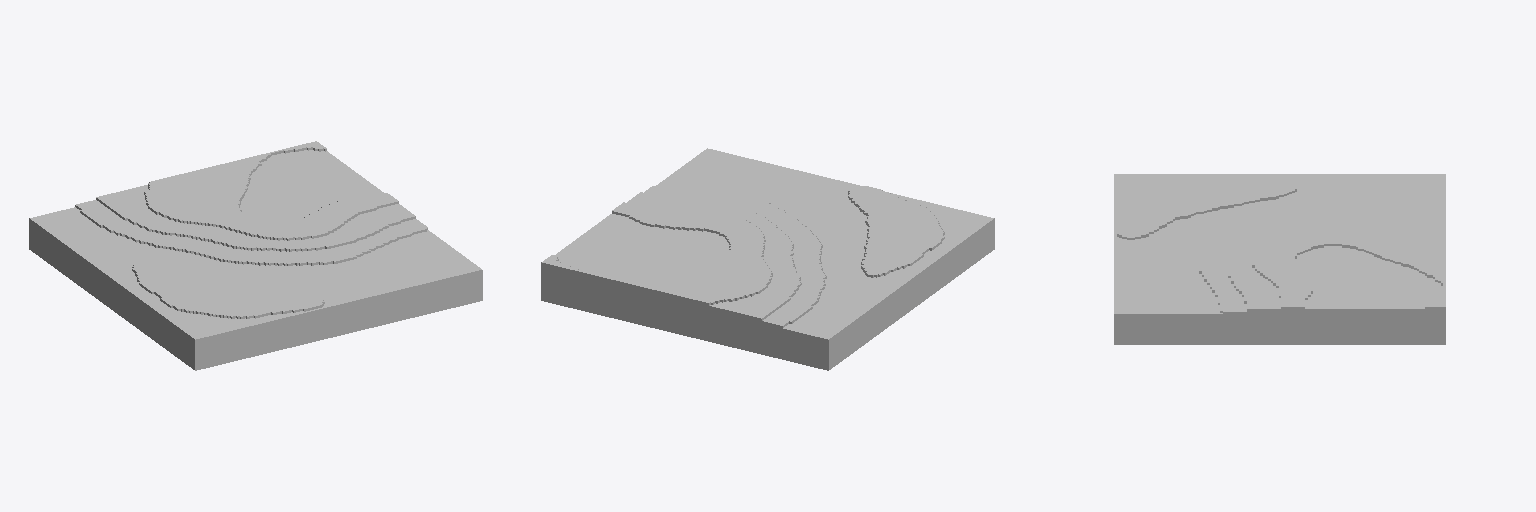
Rendered from Map (4).obj.
The picture shows the model from 3 angles: view 1: azimuth 30°, elevation 25°; view 2: azimuth 150°, elevation 25°; view 3: azimuth 270°, elevation 25°; orthographic projection.
Visible parts, largest first — view 1: ALL MAP!!!!!!!!!!!-1; view 2: ALL MAP!!!!!!!!!!!-1; view 3: ALL MAP!!!!!!!!!!!-1.
Boxes of the visible parts, x1=… form: ALL MAP!!!!!!!!!!!-1: x1=29, y1=141, x2=482, y2=370; ALL MAP!!!!!!!!!!!-1: x1=541, y1=148, x2=994, y2=370; ALL MAP!!!!!!!!!!!-1: x1=1114, y1=174, x2=1445, y2=344.
Bounding box in the file's own units: 125 × 16 × 125.